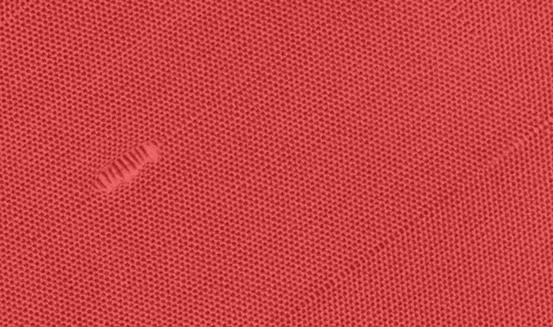slub: (83, 138, 168, 202)
